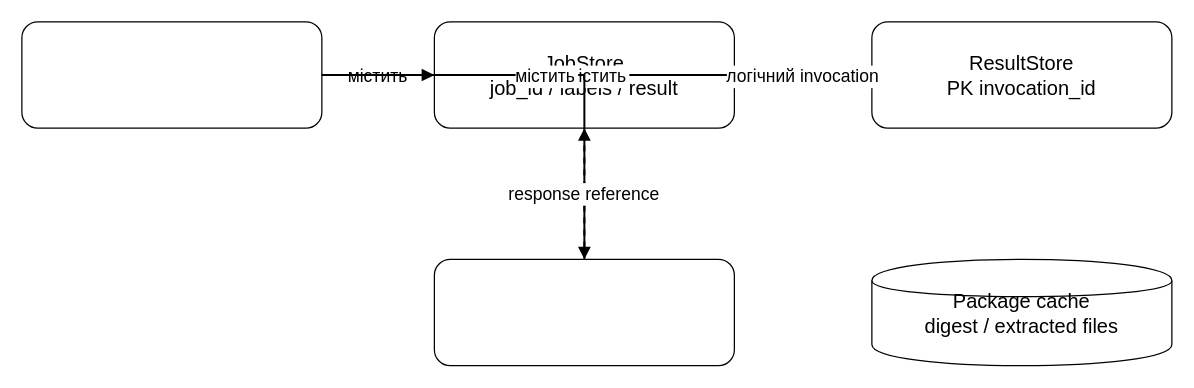
The diagram is 1194 pixels wide and 388 high, and some of its shapes have lost their labels. The centre of each missing label's shape, as x and y in pixels:
"IdempotencyStore key / fingerprint / response" goes at point 583,312.
"ServiceState own schema або memory" goes at point 171,74.
